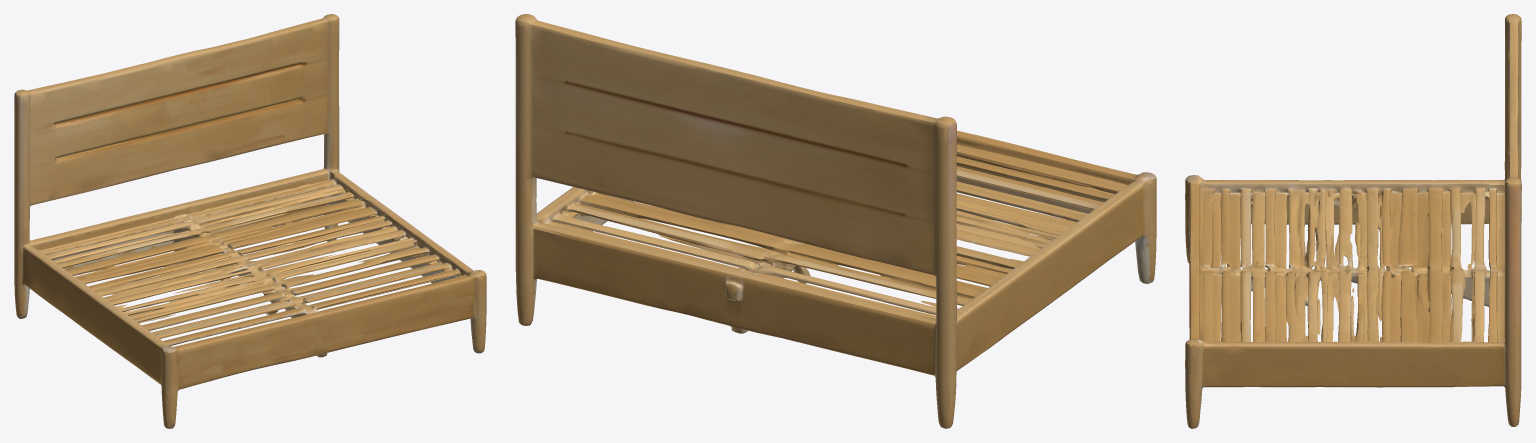
Rendered from bed__bed#3.glb.
3 renders of one model, left to right at view 1: azimuth 30°, elevation 25°; view 2: azimuth 150°, elevation 25°; view 3: azimuth 270°, elevation 25°, orthographic. The views are drawn at different scales.
Visible parts, largest first — view 1: tmpi13kx2wk.ply; view 2: tmpi13kx2wk.ply; view 3: tmpi13kx2wk.ply.
Boxes of the visible parts, x1,y1,x2,y2 form: tmpi13kx2wk.ply: [14, 14, 486, 428]; tmpi13kx2wk.ply: [515, 14, 1156, 428]; tmpi13kx2wk.ply: [1185, 14, 1521, 428].
Bounding box in the file's own units: 1.99 × 1.35 × 1.66.
Materials: 1 (1 with a texture image).
